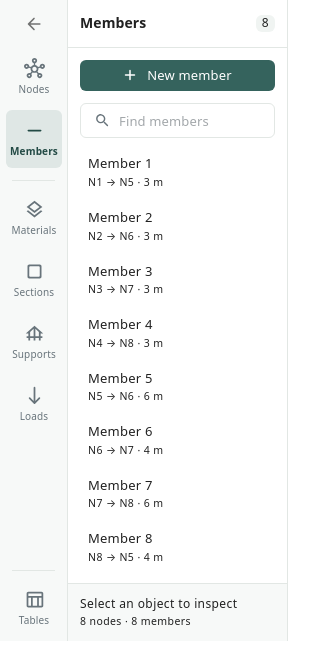
it: keeps categories usable when collapsed and reopens the selected group
Click the button named "Collapse object list": (34, 24) [18,9,48,39]
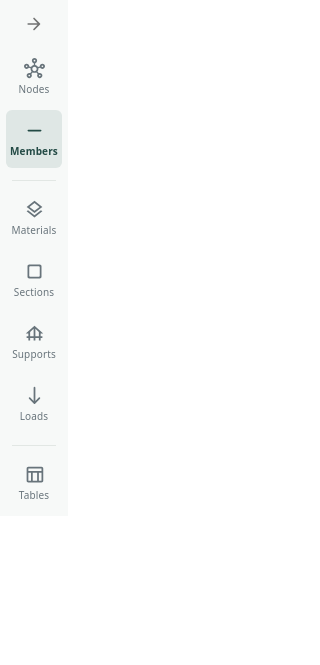
Expected: the field labelled "Find members" is not shown
Click the button "Materials": (34, 218) [6,189,62,247]
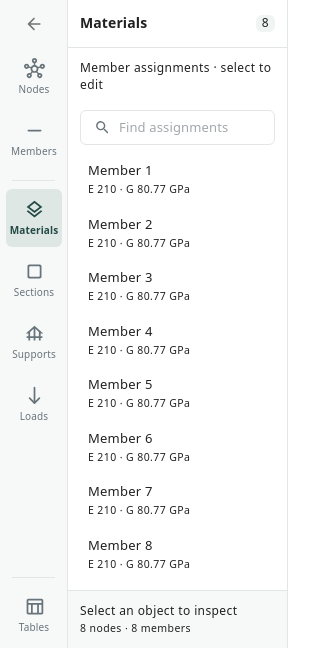
Result: the field named "Find materials" is shown at [119,110,275,145]
